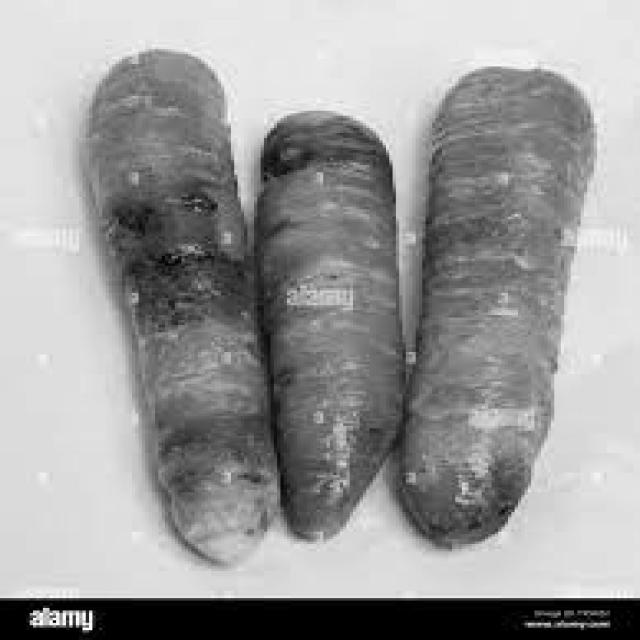Stale_Carrot: (87, 37, 298, 544), (438, 16, 559, 562), (268, 91, 405, 527)
